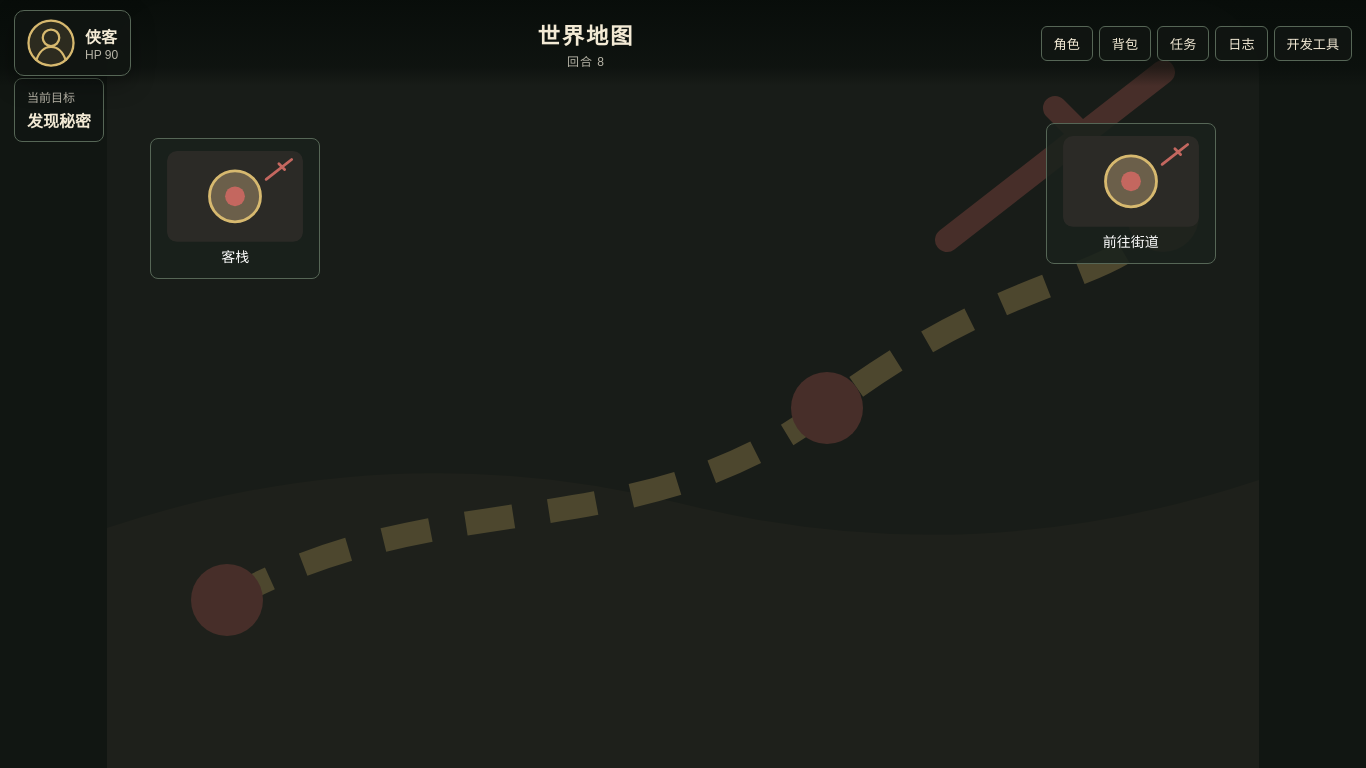
Scenario: AdventureGameShell canonical opaque choices › renders zero-turn idle dialogue for handed-off NPC with dismiss button and no submission
Click the button "客栈". click: (235, 209)
box: [150,138,320,279]
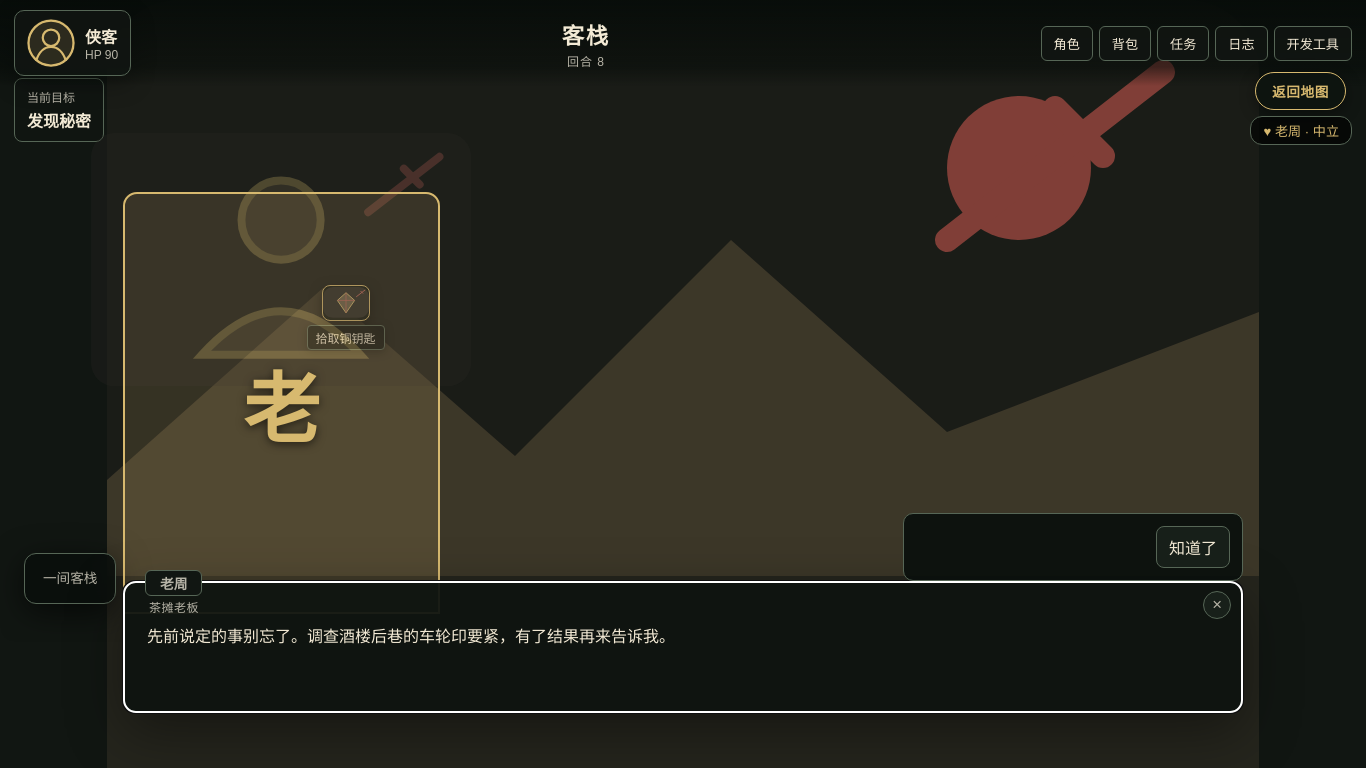
Result: the text "先前说定的事别忘了。调查酒楼后巷的车轮印要紧，有了结果再来告诉我。" is shown at [147,628,675,645]
Click the button "知道了". click: (1193, 547)
box: [1156,526,1230,568]
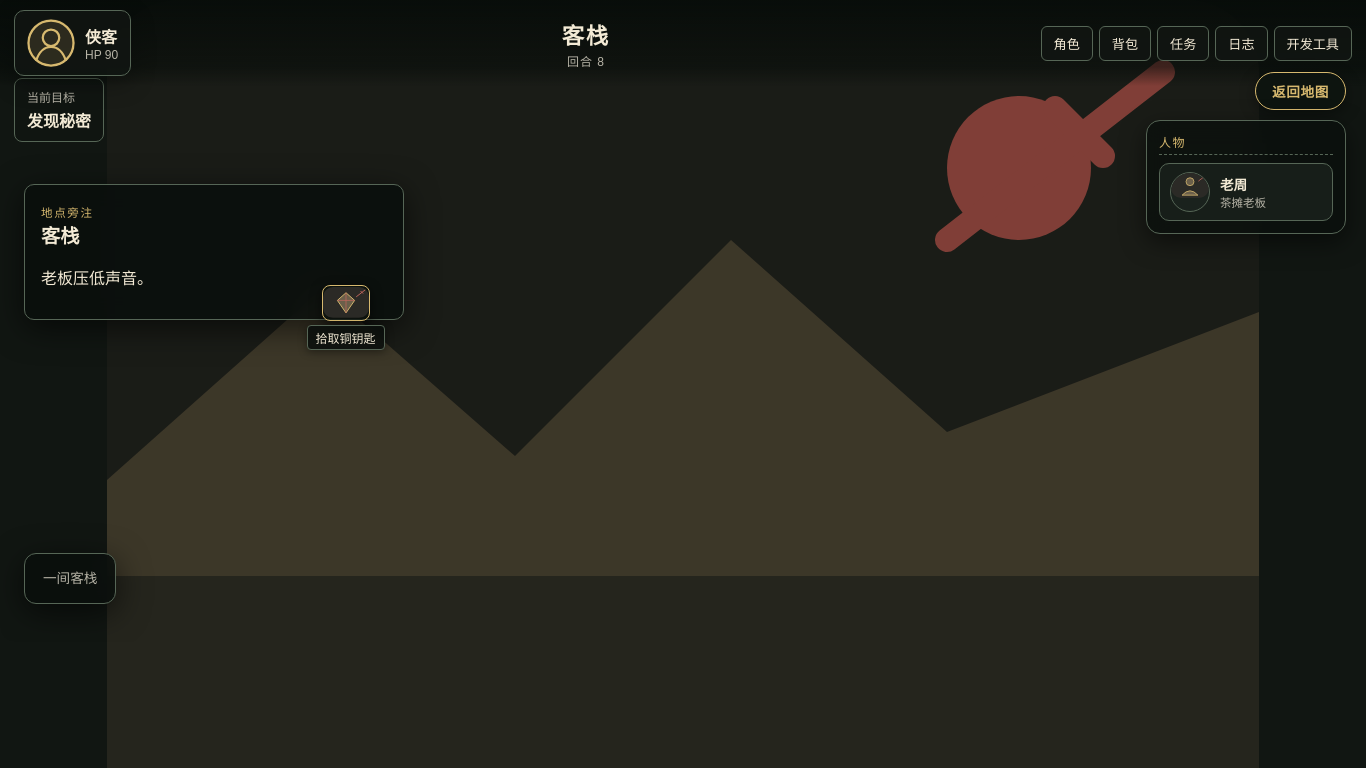
Result: the dialog "与老周对话" is gone
